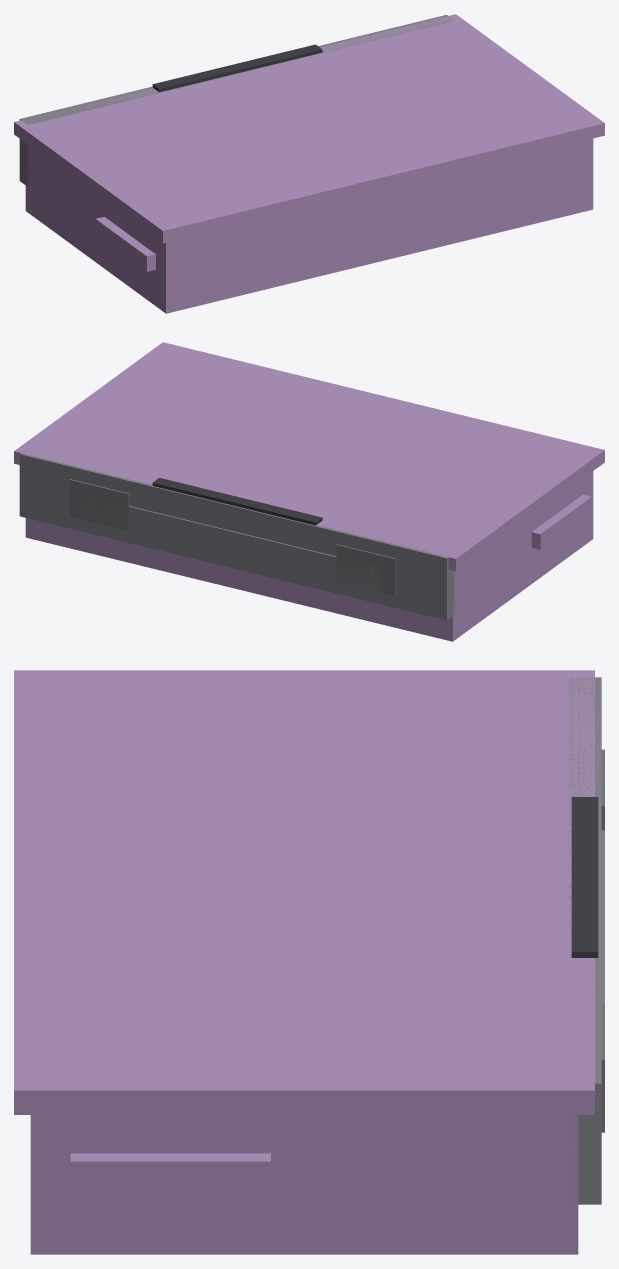
Rendered from chassis.gltf.
3 renders of one model, top to bottom at view 1: azimuth 30°, elevation 25°; view 2: azimuth 150°, elevation 25°; view 3: azimuth 270°, elevation 25°, orthographic. The views are drawn at different scales.
Visible parts, largest first — view 1: chassis; view 2: chassis; view 3: chassis.
Boxes of the visible parts, x1,y1,x2,y2 form: chassis: [14, 14, 604, 313]; chassis: [14, 342, 604, 641]; chassis: [14, 670, 604, 1254].
Size of the model in its own units: 0.15 by 0.0293 by 0.0885.
